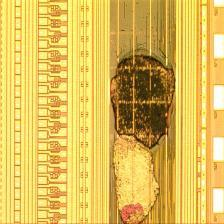BLOCK ETCH: (107, 47, 177, 224)
